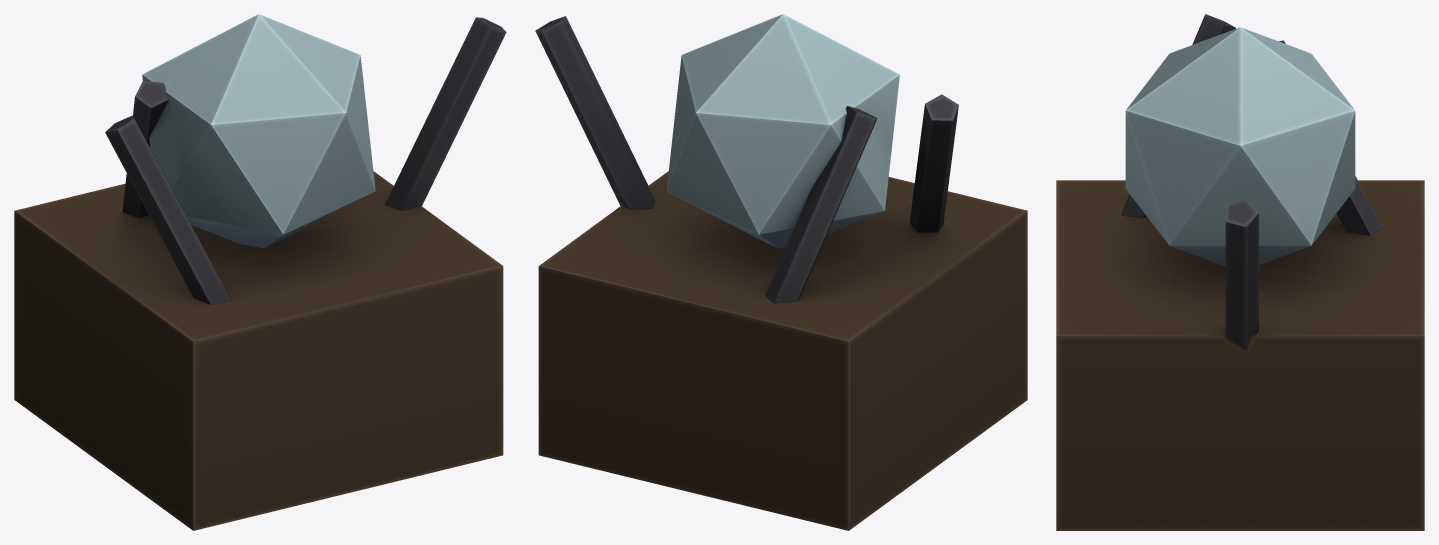
The model's file is rock_machine.glb.
3 views of the same model, side by side, from view 1: azimuth 30°, elevation 25°; view 2: azimuth 150°, elevation 25°; view 3: azimuth 270°, elevation 25° (orthographic). The views are drawn at different scales.
Visible parts, largest first — view 1: rock_machine; view 2: rock_machine; view 3: rock_machine.
Boxes of the visible parts, box(x1,y1,x2,y2) form: rock_machine: box(14, 14, 506, 530); rock_machine: box(535, 14, 1027, 530); rock_machine: box(1056, 14, 1424, 530).
Size of the model in its own units: 0.7876 by 0.765 by 0.6.
1 material, 1 textured.
